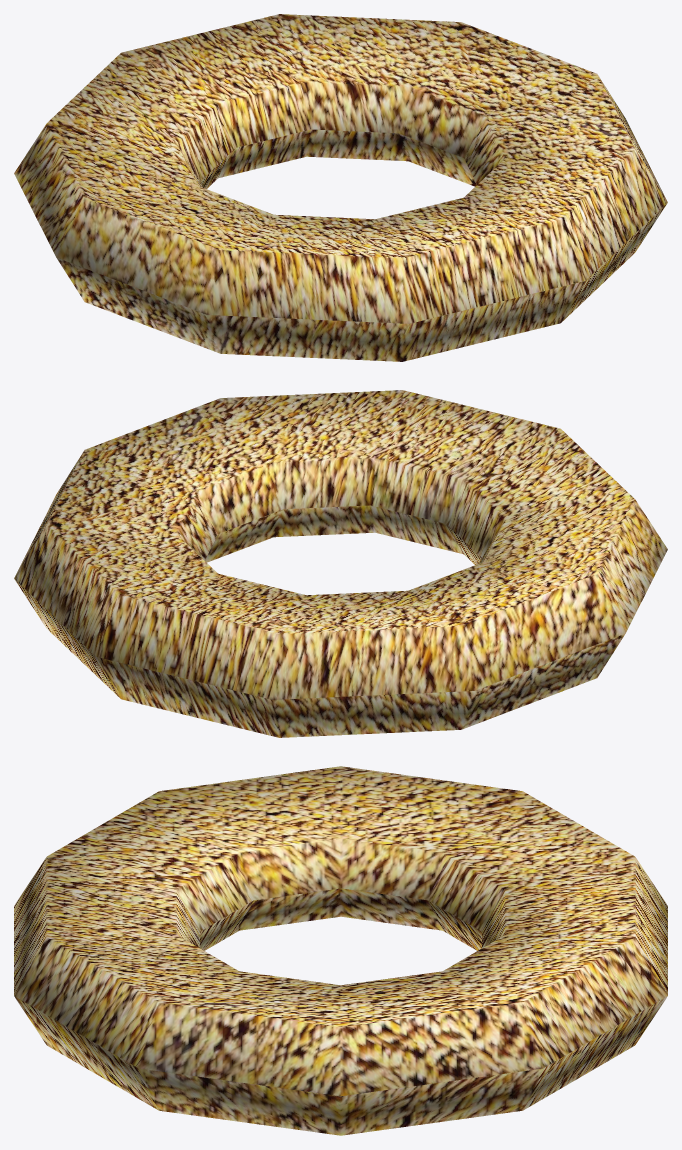
The model's file is cereal.fbx.
3 views of the same model, one above another, from view 1: azimuth 30°, elevation 25°; view 2: azimuth 150°, elevation 25°; view 3: azimuth 270°, elevation 25° (orthographic). The views are drawn at different scales.
Parts seen in each view (by area): view 1: Torus; view 2: Torus; view 3: Torus.
Boxes of the visible parts, left/top/right/bottom form: Torus: left=14, top=14, right=667, bottom=361; Torus: left=14, top=390, right=667, bottom=737; Torus: left=14, top=766, right=667, bottom=1135.
Size of the model in its own units: 145 by 25.04 by 137.
